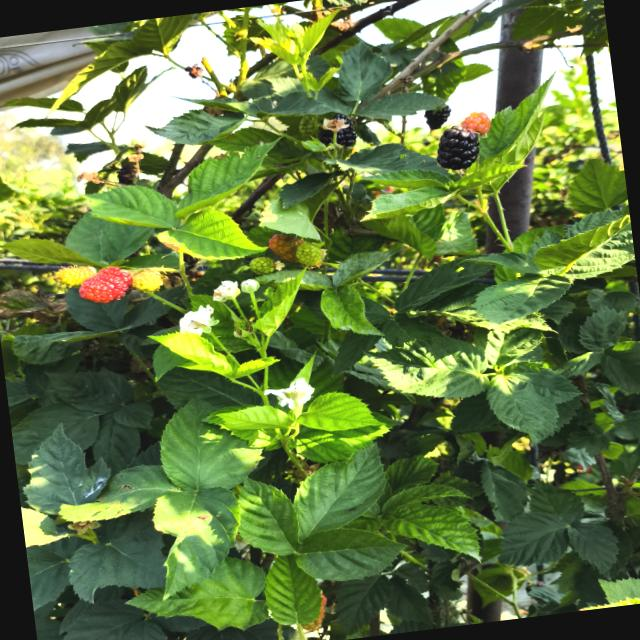boton: (240, 279, 259, 293)
flor: (265, 377, 314, 409), (179, 304, 218, 335), (213, 280, 240, 301)
maduro: (437, 126, 479, 170), (331, 113, 356, 146), (319, 129, 332, 144)
naranja: (79, 266, 132, 302), (268, 234, 303, 262), (460, 111, 490, 134)
verde: (54, 265, 96, 286), (296, 242, 326, 267), (132, 269, 163, 291), (249, 256, 276, 274)
